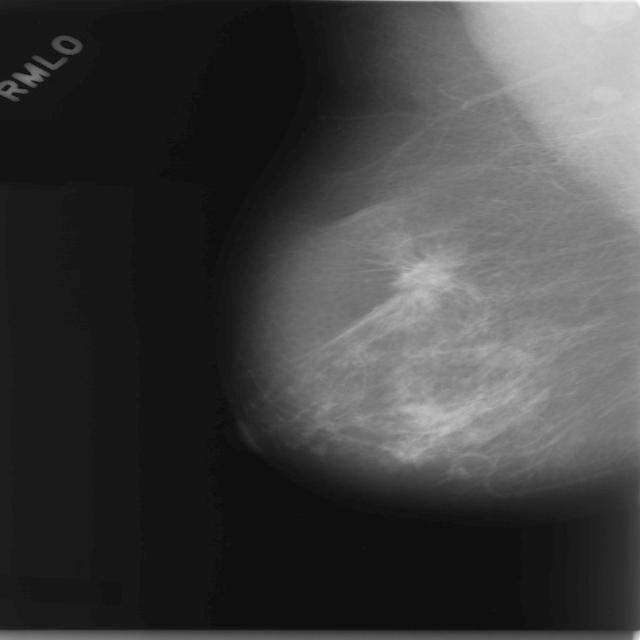tumour: (391, 248, 464, 301)
